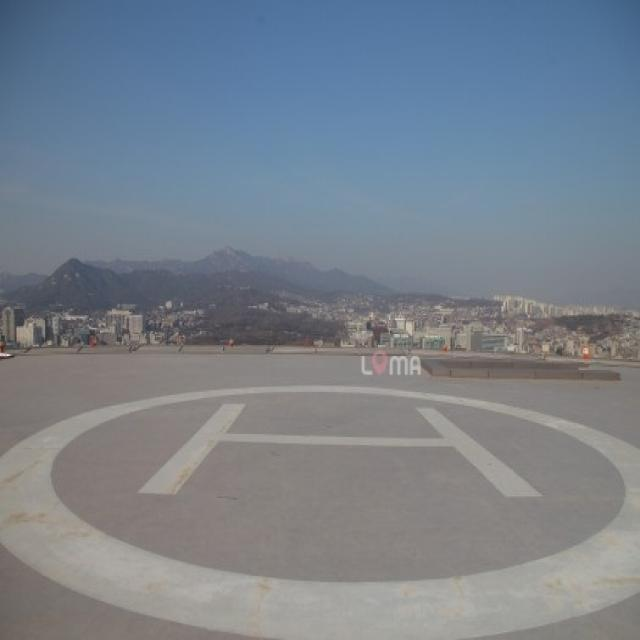helipad: (0, 376, 639, 638)
